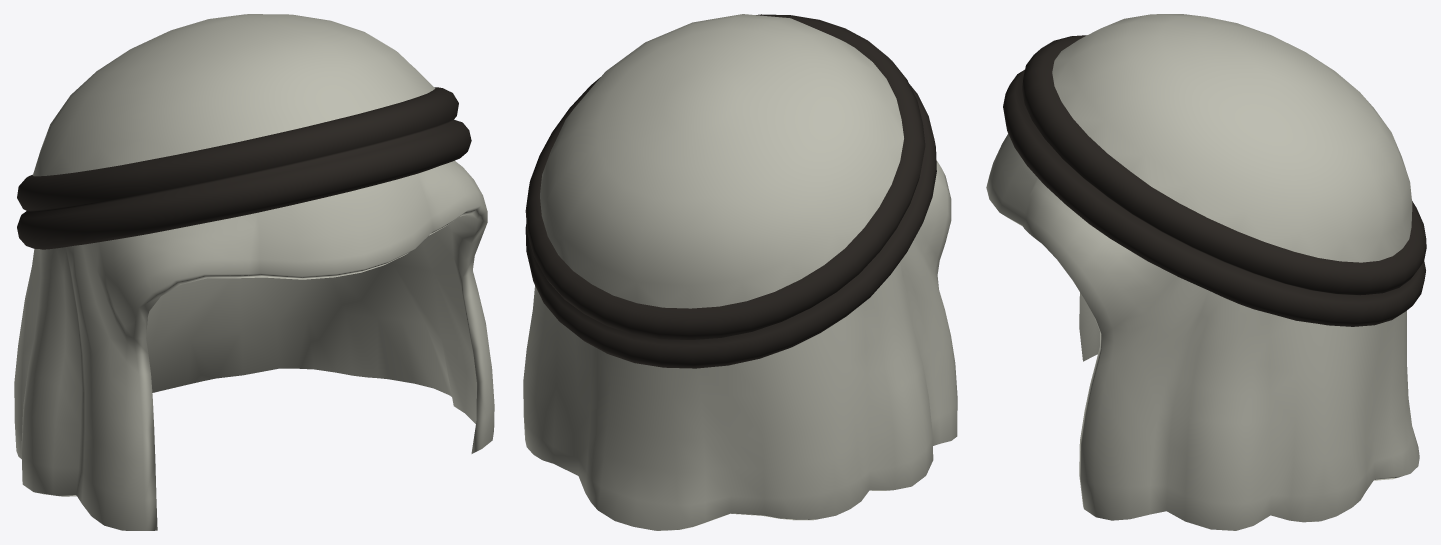
The model's file is CapHelmetKandula0.glb.
The picture shows the model from 3 angles, left to right: view 1: azimuth 30°, elevation 25°; view 2: azimuth 150°, elevation 25°; view 3: azimuth 270°, elevation 25°; orthographic projection. The views are drawn at different scales.
Parts seen in each view (by area): view 1: Body__mCap; view 2: Body__mCap; view 3: Body__mCap.
Part boxes in pixels (x1=…): Body__mCap: x1=14, y1=14, x2=494, y2=530; Body__mCap: x1=523, y1=14, x2=957, y2=530; Body__mCap: x1=986, y1=14, x2=1426, y2=530.
Bounding box in the file's own units: 8.09 × 8.18 × 7.67.
Materials: 1 (1 with a texture image).
